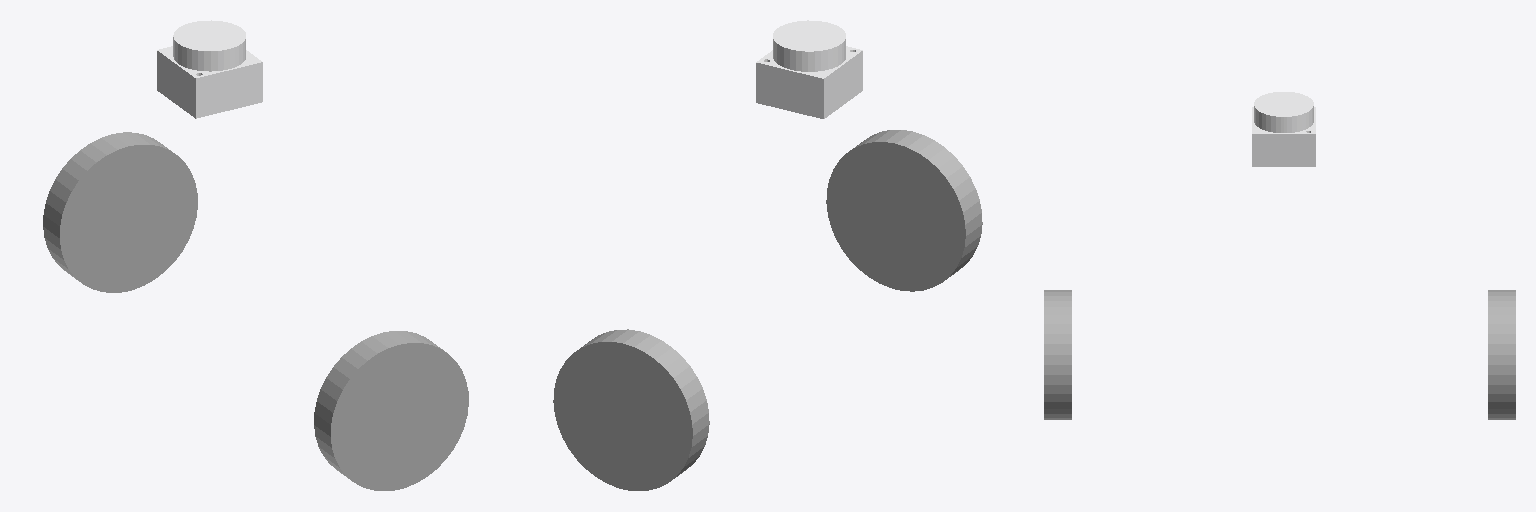
URDF robot description (roomba_final3):
<?xml version="1.0" encoding="utf-8"?>
<!-- This URDF was automatically created by SolidWorks to URDF Exporter! Originally created by [author] ([email redacted]) 
     Commit Version: 1.6.0-4-g7f85cfe  Build Version: 1.6.7995.38578
     For more information, please see http://wiki.ros.org/sw_urdf_exporter -->
<robot
  name="roomba_final3">
  <link
    name="base_link">
    <inertial>
      <origin
        xyz="-0.018804 0.0003512 0.1096"
        rpy="0 0 0" />
      <mass
        value="0.56609" />
      <inertia
        ixx="0.0035439"
        ixy="9.7497E-06"
        ixz="2.7928E-05"
        iyy="0.0020993"
        iyz="-3.4959E-07"
        izz="0.0054612" />
    </inertial>
    <visual>
      <origin
        xyz="0 0 0"
        rpy="0 0 0" />
      <geometry>
        <mesh
          filename="package://roomba_final3/meshes/base_link.STL" />
      </geometry>
      <material
        name="">
        <color
          rgba="0.79216 0.81961 0.93333 1" />
      </material>
    </visual>
    <collision>
      <origin
        xyz="0 0 0"
        rpy="0 0 0" />
      <geometry>
        <mesh
          filename="package://roomba_final3/meshes/base_link.STL" />
      </geometry>
    </collision>
  </link>
  <link
    name="rueda_izquierda_link">
    <inertial>
      <origin
        xyz="0 0 -0.0075"
        rpy="0 0 0" />
      <mass
        value="0.059894" />
      <inertia
        ixx="2.0903E-05"
        ixy="-6.286E-22"
        ixz="-1.3571E-20"
        iyy="2.0903E-05"
        iyz="-7.7831E-21"
        izz="3.956E-05" />
    </inertial>
    <visual>
      <origin
        xyz="0 0 0"
        rpy="0 0 0" />
      <geometry>
        <mesh
          filename="package://roomba_final3/meshes/rueda_izquierda_link.STL" />
      </geometry>
      <material
        name="">
        <color
          rgba="0.74902 0.74902 0.74902 1" />
      </material>
    </visual>
    <collision>
      <origin
        xyz="0 0 0"
        rpy="0 0 0" />
      <geometry>
        <mesh
          filename="package://roomba_final3/meshes/rueda_izquierda_link.STL" />
      </geometry>
    </collision>
  </link>
  <joint
    name="rueda_izquierda_joint"
    type="continuous">
    <origin
      xyz="0.0028919 0.12199 0.021229"
      rpy="-1.5708 0 0" />
    <parent
      link="base_link" />
    <child
      link="rueda_izquierda_link" />
    <axis
      xyz="0 0 1" />
    <limit
      effort="100"
      velocity="100" />
    <dynamics
      damping="0.1"
      friction="0.1" />
  </joint>
  <link
    name="rueda_derecha_link">
    <inertial>
      <origin
        xyz="2.7756E-17 -2.7756E-17 0.0075"
        rpy="0 0 0" />
      <mass
        value="0.059894" />
      <inertia
        ixx="2.0903E-05"
        ixy="7.6014E-36"
        ixz="-1.9331E-20"
        iyy="2.0903E-05"
        iyz="-5.4394E-21"
        izz="3.956E-05" />
    </inertial>
    <visual>
      <origin
        xyz="0 0 0"
        rpy="0 0 0" />
      <geometry>
        <mesh
          filename="package://roomba_final3/meshes/rueda_derecha_link.STL" />
      </geometry>
      <material
        name="">
        <color
          rgba="0.74902 0.74902 0.74902 1" />
      </material>
    </visual>
    <collision>
      <origin
        xyz="0 0 0"
        rpy="0 0 0" />
      <geometry>
        <mesh
          filename="package://roomba_final3/meshes/rueda_derecha_link.STL" />
      </geometry>
    </collision>
  </link>
  <joint
    name="rueda_derecha_joint"
    type="continuous">
    <origin
      xyz="0.0028919 -0.122 0.021229"
      rpy="-1.5708 0 0" />
    <parent
      link="base_link" />
    <child
      link="rueda_derecha_link" />
    <axis
      xyz="0 0 1" />
    <limit
      effort="100"
      velocity="100" />
    <dynamics
      damping="0.1"
      friction="0.1" />
  </joint>
  <link
    name="rueda_loca1_link">
    <inertial>
      <origin
        xyz="1.1781E-05 -6.3594E-06 -0.00030486"
        rpy="0 0 0" />
      <mass
        value="0.0042425" />
      <inertia
        ixx="1.9239E-07"
        ixy="-2.0329E-11"
        ixz="-9.7454E-10"
        iyy="1.9236E-07"
        iyz="5.2606E-10"
        izz="2.1757E-07" />
    </inertial>
    <visual>
      <origin
        xyz="0 0 0"
        rpy="0 0 0" />
      <geometry>
        <mesh
          filename="package://roomba_final3/meshes/rueda_loca1_link.STL" />
      </geometry>
      <material
        name="">
        <color
          rgba="0.74902 0.74902 0.74902 1" />
      </material>
    </visual>
    <collision>
      <origin
        xyz="0 0 0"
        rpy="0 0 0" />
      <geometry>
        <mesh
          filename="package://roomba_final3/meshes/rueda_loca1_link.STL" />
      </geometry>
    </collision>
  </link>
  <joint
    name="rueda_loca1_link"
    type="fixed">
    <origin
      xyz="-0.10948 2.2157E-05 -0.0047667"
      rpy="0 0 0" />
    <parent
      link="base_link" />
    <child
      link="rueda_loca1_link" />
    <axis
      xyz="0 0 0" />
    <limit
      effort="1000"
      velocity="1000" />
    <dynamics
      damping="0.1"
      friction="0.1" />
  </joint>
  <link
    name="rueda_loca_link">
    <inertial>
      <origin
        xyz="0 2.0503E-13 -0.00030516"
        rpy="0 0 0" />
      <mass
        value="0.0042425" />
      <inertia
        ixx="1.9235E-07"
        ixy="-3.1019E-25"
        ixz="1.1357E-23"
        iyy="1.9235E-07"
        iyz="-1.6977E-17"
        izz="2.1762E-07" />
    </inertial>
    <visual>
      <origin
        xyz="0 0 0"
        rpy="0 0 0" />
      <geometry>
        <mesh
          filename="package://roomba_final3/meshes/rueda_loca_link.STL" />
      </geometry>
      <material
        name="">
        <color
          rgba="0.74902 0.74902 0.74902 1" />
      </material>
    </visual>
    <collision>
      <origin
        xyz="0 0 0"
        rpy="0 0 0" />
      <geometry>
        <mesh
          filename="package://roomba_final3/meshes/rueda_loca_link.STL" />
      </geometry>
    </collision>
  </link>
  <joint
    name="rueda_loca_joint"
    type="fixed">
    <origin
      xyz="0.12957 3.8976E-05 -0.0047674"
      rpy="0 0 0.0079511" />
    <parent
      link="base_link" />
    <child
      link="rueda_loca_link" />
    <axis
      xyz="0 0 0" />
    <limit
      effort="100"
      velocity="100" />
    <dynamics
      damping="0.1"
      friction="0.1" />
  </joint>
  <link
    name="camara_link ">
    <inertial>
      <origin
        xyz="0.011556 8.1034E-06 -0.00013612"
        rpy="0 0 0" />
      <mass
        value="0.039891" />
      <inertia
        ixx="2.634E-05"
        ixy="-1.3124E-08"
        ixz="1.8203E-08"
        iyy="2.8501E-06"
        iyz="-4.272E-11"
        izz="2.5971E-05" />
    </inertial>
    <visual>
      <origin
        xyz="0 0 0"
        rpy="0 0 0" />
      <geometry>
        <mesh
          filename="package://roomba_final3/meshes/camara_link .STL" />
      </geometry>
      <material
        name="">
        <color
          rgba="0.79216 0.81961 0.93333 1" />
      </material>
    </visual>
    <collision>
      <origin
        xyz="0 0 0"
        rpy="0 0 0" />
      <geometry>
        <mesh
          filename="package://roomba_final3/meshes/camara_link .STL" />
      </geometry>
    </collision>
  </link>
  <joint
    name="camara_joint"
    type="fixed">
    <origin
      xyz="-0.065999 0.0010978 0.22823"
      rpy="0 0 0" />
    <parent
      link="base_link" />
    <child
      link="camara_link " />
    <axis
      xyz="0 0 0" />
    <dynamics
      damping="0.1"
      friction="0.1" />
  </joint>
  <link
    name="lidar_link">
    <inertial>
      <origin
        xyz="4.1439E-07 -1.3901E-06 0.013915"
        rpy="0 0 0" />
      <mass
        value="0.03277" />
      <inertia
        ixx="5.3274E-06"
        ixy="5.6195E-08"
        ixz="-1.4962E-10"
        iyy="5.3275E-06"
        iyz="5.0497E-10"
        izz="6.0536E-06" />
    </inertial>
    <visual>
      <origin
        xyz="0 0 0"
        rpy="0 0 0" />
      <geometry>
        <mesh
          filename="package://roomba_final3/meshes/lidar_link.STL" />
      </geometry>
      <material
        name="">
        <color
          rgba="0.99608 0.99608 1 1" />
      </material>
    </visual>
    <collision>
      <origin
        xyz="0 0 0"
        rpy="0 0 0" />
      <geometry>
        <mesh
          filename="package://roomba_final3/meshes/lidar_link.STL" />
      </geometry>
    </collision>
  </link>
  <joint
    name="laser_link"
    type="fixed">
    <origin
      xyz="-0.019804 0.0021806 0.13273"
      rpy="0 0 0" />
    <parent
      link="base_link" />
    <child
      link="lidar_link" />
    <axis
      xyz="0 0 0" />
    <dynamics
      damping="0.1"
      friction="0.1" />
  </joint>
</robot>

--- Facts derived from the render (not from the file) ---
The picture shows the robot from 3 angles, left to right: view 1: azimuth 30°, elevation 25°; view 2: azimuth 150°, elevation 25°; view 3: azimuth 270°, elevation 25°; orthographic projection.
Robot: roomba_final3 — 7 links, 6 joints (2 continuous, 4 fixed); root link base_link; default pose: every joint at zero.
Links seen in each view (by area): view 1: rueda_izquierda_link, rueda_derecha_link, lidar_link; view 2: rueda_derecha_link, rueda_izquierda_link, lidar_link; view 3: lidar_link, rueda_izquierda_link, rueda_derecha_link.
Link boxes in pixels (left/top/right/bottom): rueda_izquierda_link: left=43, top=132, right=197, bottom=292; rueda_derecha_link: left=314, top=331, right=468, bottom=490; lidar_link: left=157, top=20, right=262, bottom=118; rueda_derecha_link: left=826, top=130, right=982, bottom=291; rueda_izquierda_link: left=553, top=329, right=709, bottom=490; lidar_link: left=756, top=20, right=862, bottom=118; lidar_link: left=1252, top=92, right=1315, bottom=166; rueda_izquierda_link: left=1488, top=290, right=1515, bottom=419; rueda_derecha_link: left=1044, top=290, right=1071, bottom=419.
Bounding box of the posed robot: 0.0762 × 0.259 × 0.1775 m (x, y, z).
3 mesh visuals loaded from 7 distinct referenced files (3 binary STL); not drawn: 4 (reference not matched to a file when rendering).